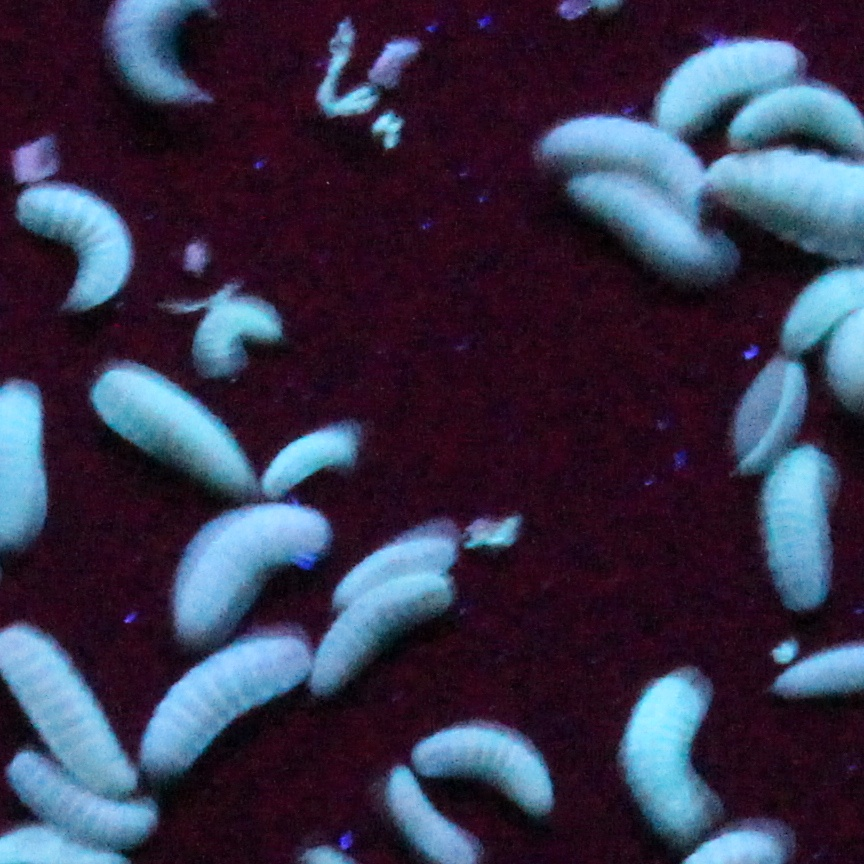larve: (616, 665, 733, 839), (154, 638, 308, 770), (92, 369, 253, 489), (170, 505, 320, 632), (310, 579, 455, 692), (568, 180, 721, 282), (18, 181, 128, 304), (421, 729, 552, 815), (764, 452, 833, 612), (8, 772, 145, 838), (650, 38, 797, 97), (720, 361, 803, 462), (267, 415, 369, 493), (544, 121, 699, 171), (744, 94, 863, 147), (193, 294, 278, 367), (341, 539, 452, 576)
